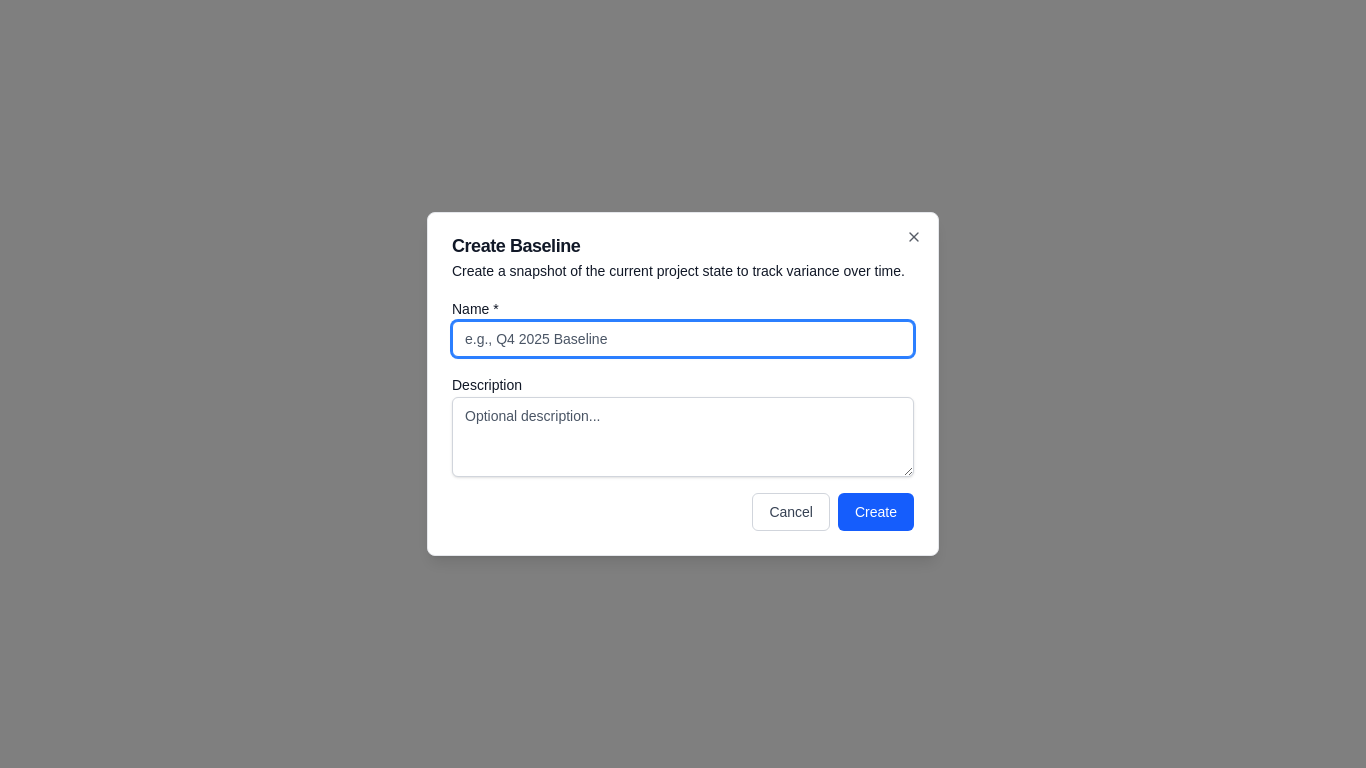
it: CreateBaselineDialog › Error Handling › displays error message when snapshot too large (413)
Step 1. Type "Huge Baseline" into the field labelled "Name *" → coordinates (683, 339), box [452, 321, 914, 357]
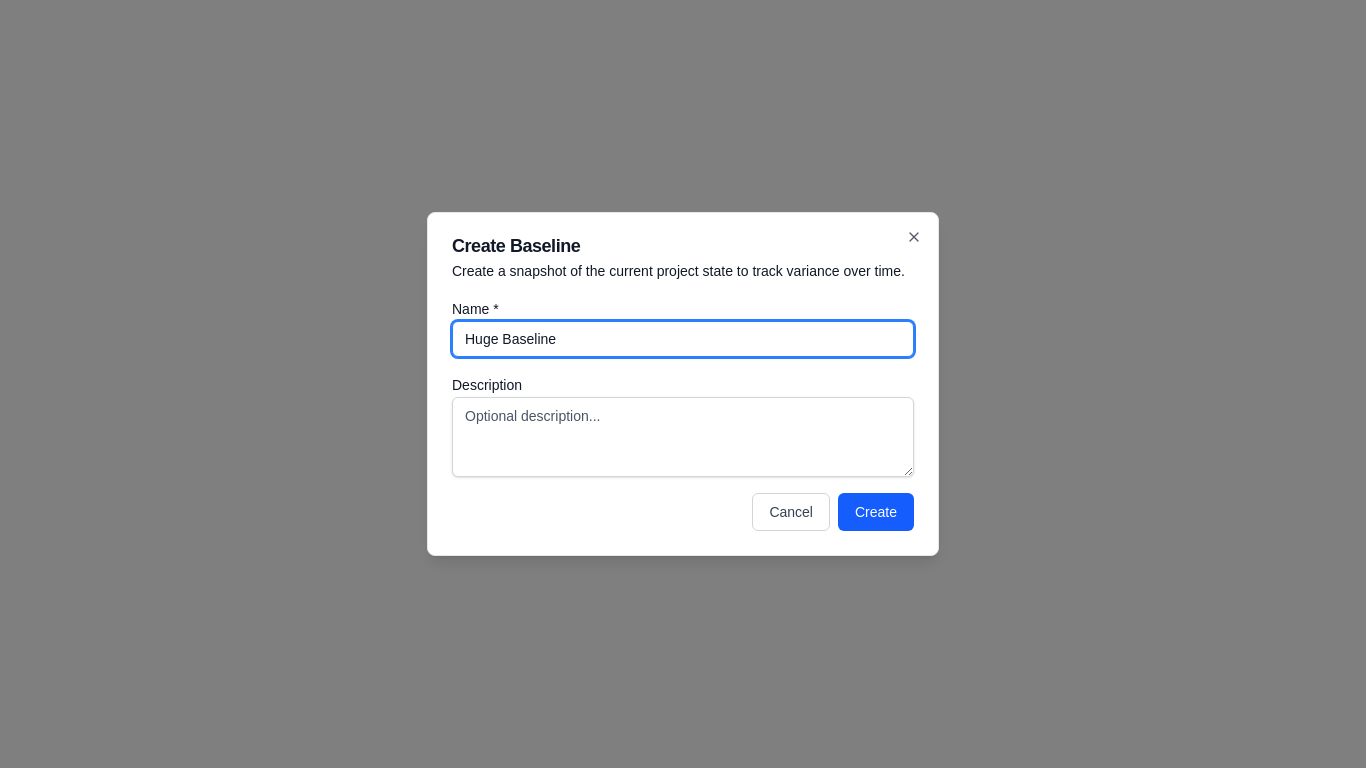
Step 2. Click the button "Create" → coordinates (876, 512), box [838, 493, 914, 531]
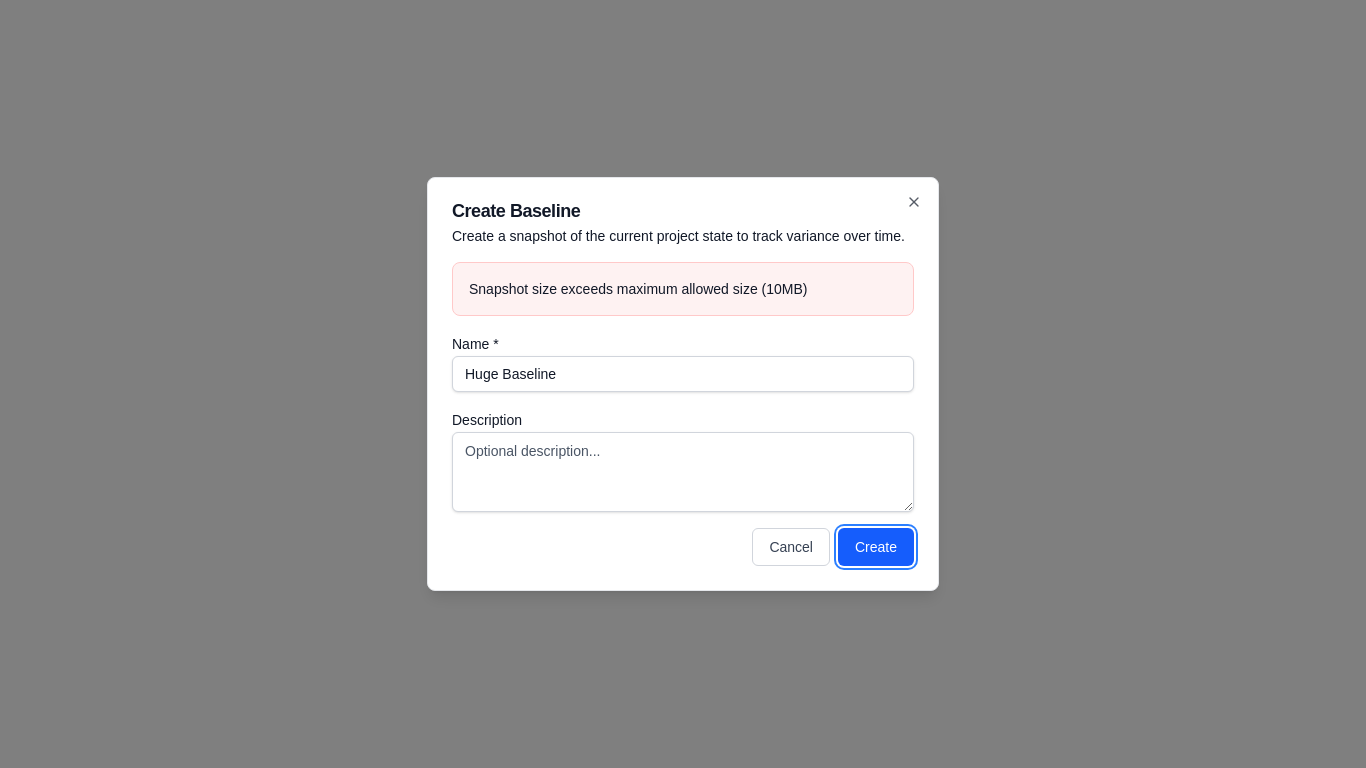
Check: the text "Snapshot size exceeds maximum allowed size (10MB)" is shown, box [469, 281, 808, 297]
